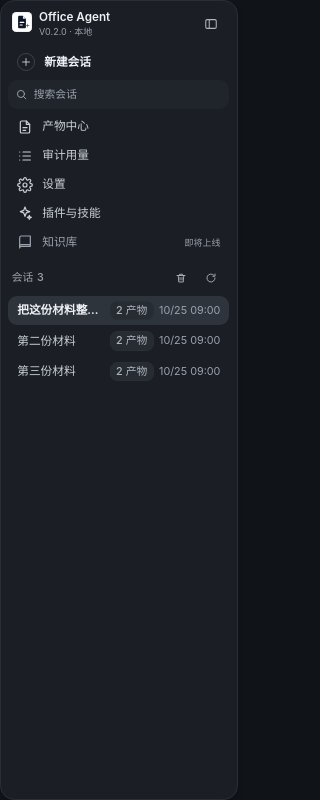
Scenario: 最近会话：批量清理 › 全选本页 → 第一次点只进确认态，第二次才真删，成功后退出选择模式
This screenshot has width=320, height=800.
What coordinates should you click on to do the following:
click the button named "批量清理会话"
I would click on:
 (181, 278)
Its box is left=166, top=264, right=195, bottom=292.
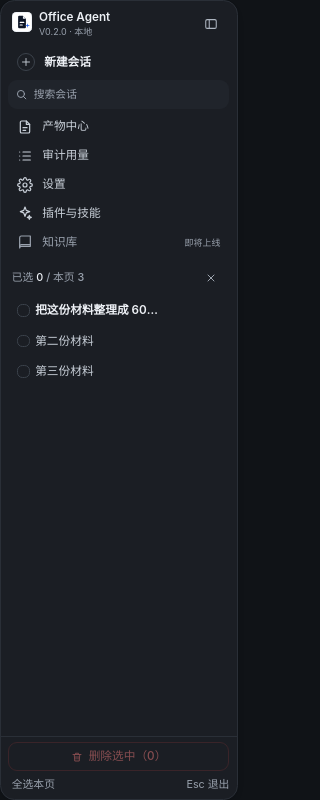
What coordinates should you click on to do the following:
click the button "全选本页"
I would click on:
 (33, 784)
Its box is left=8, top=775, right=59, bottom=794.
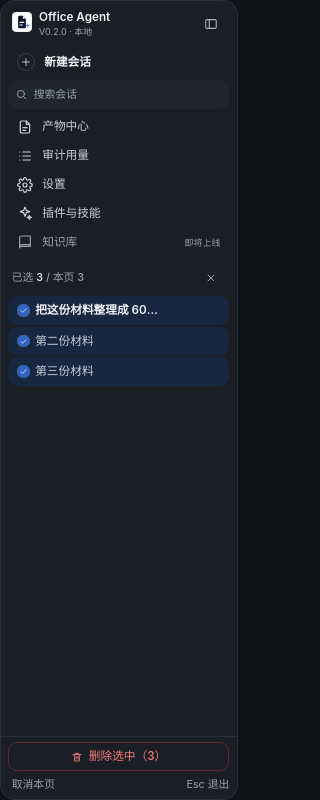
Now the button "删除选中（3）" is shown
What coordinates should you click on to do the following:
click the button "删除选中（3）"
I would click on:
 (119, 757)
Its box is left=8, top=742, right=229, bottom=771.
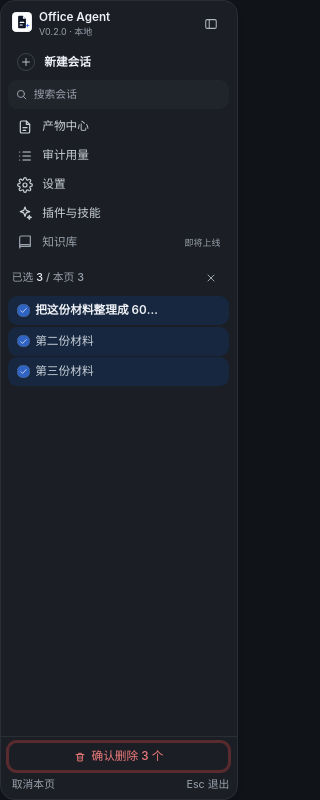
What coordinates should you click on to do the following:
click the button "确认删除 3 个"
I would click on:
 (119, 757)
Its box is left=8, top=742, right=229, bottom=771.
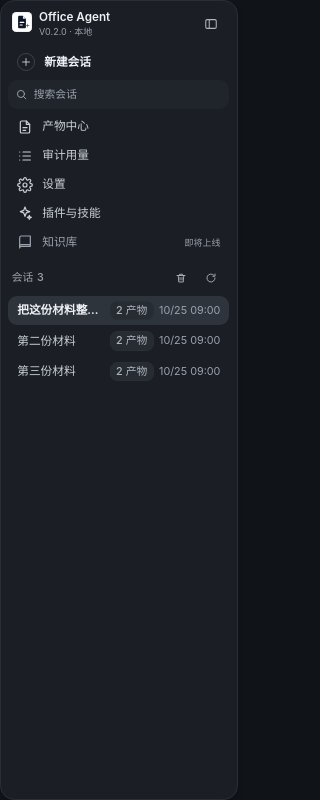
Now the button named "批量清理会话" is shown, box left=166, top=264, right=195, bottom=292
